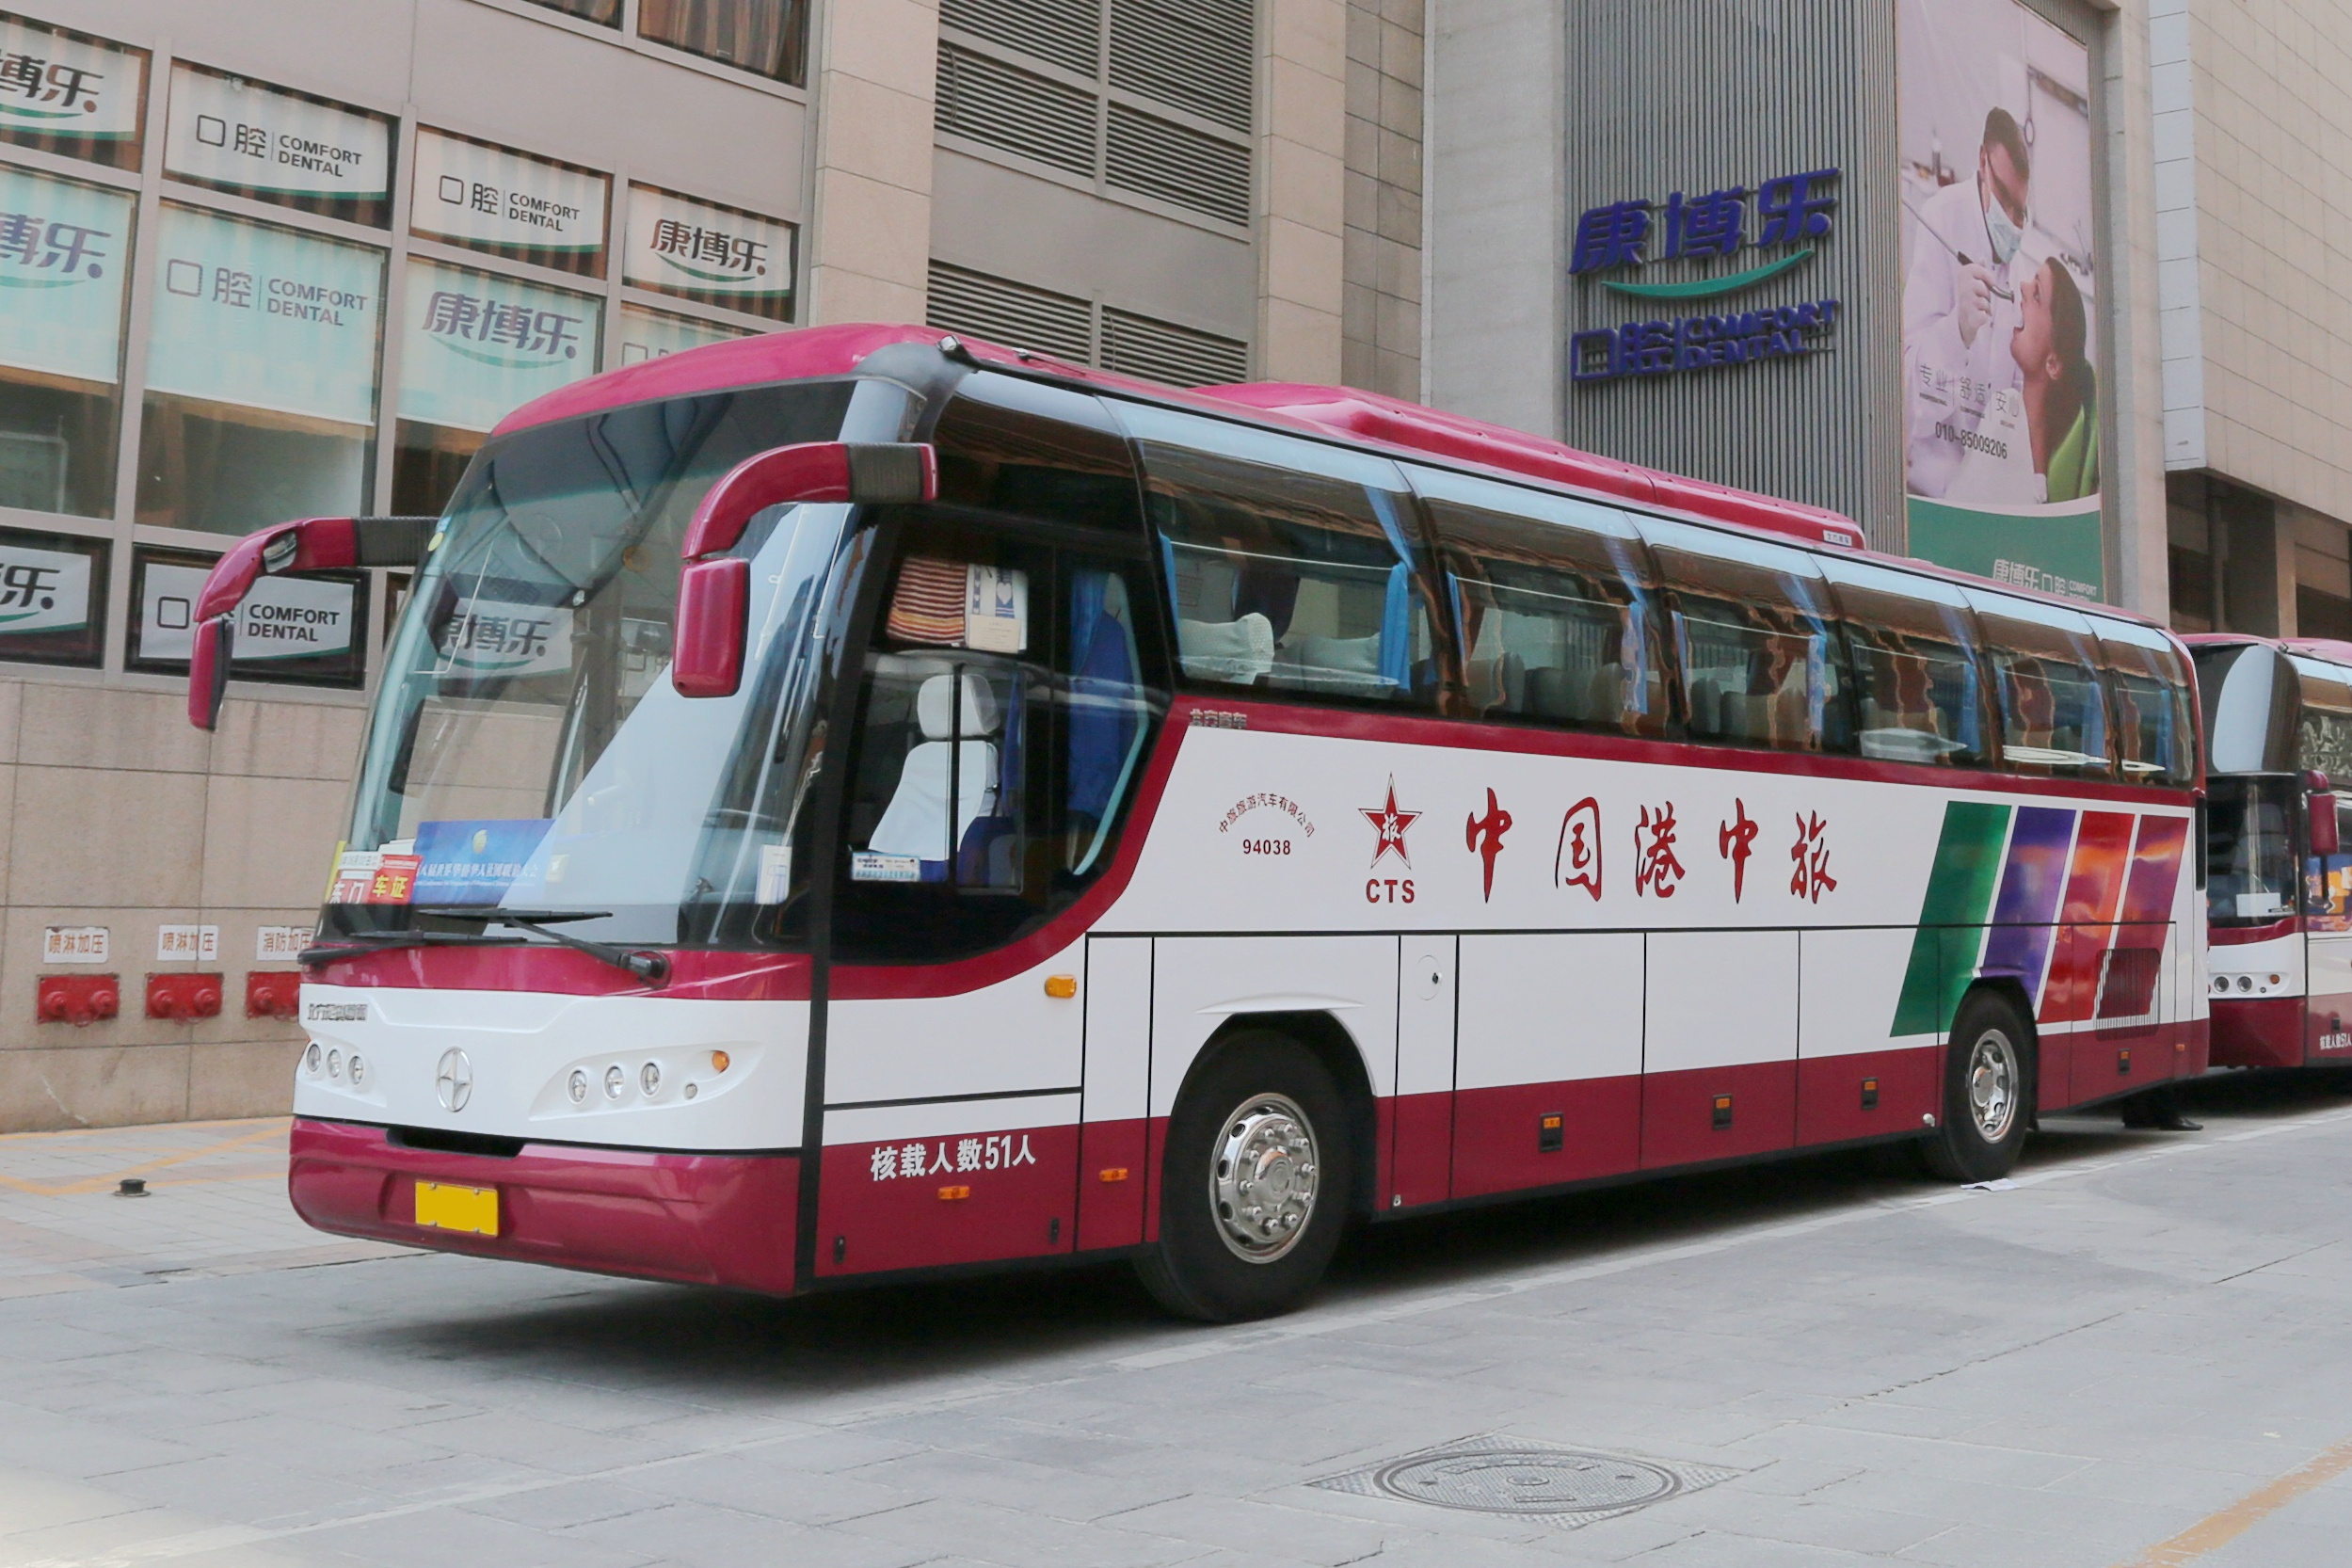bus: (182, 329, 2228, 1309)
